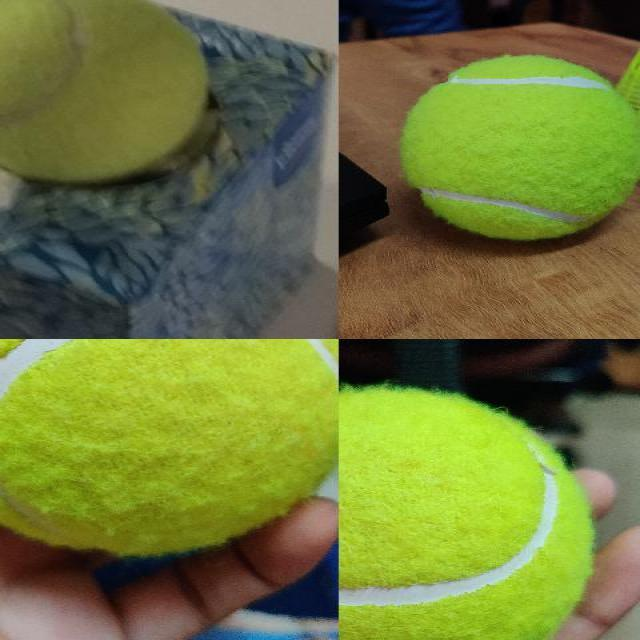tennis-ball: (0, 339, 337, 552), (339, 389, 591, 639), (401, 56, 639, 239), (0, 0, 212, 183)
